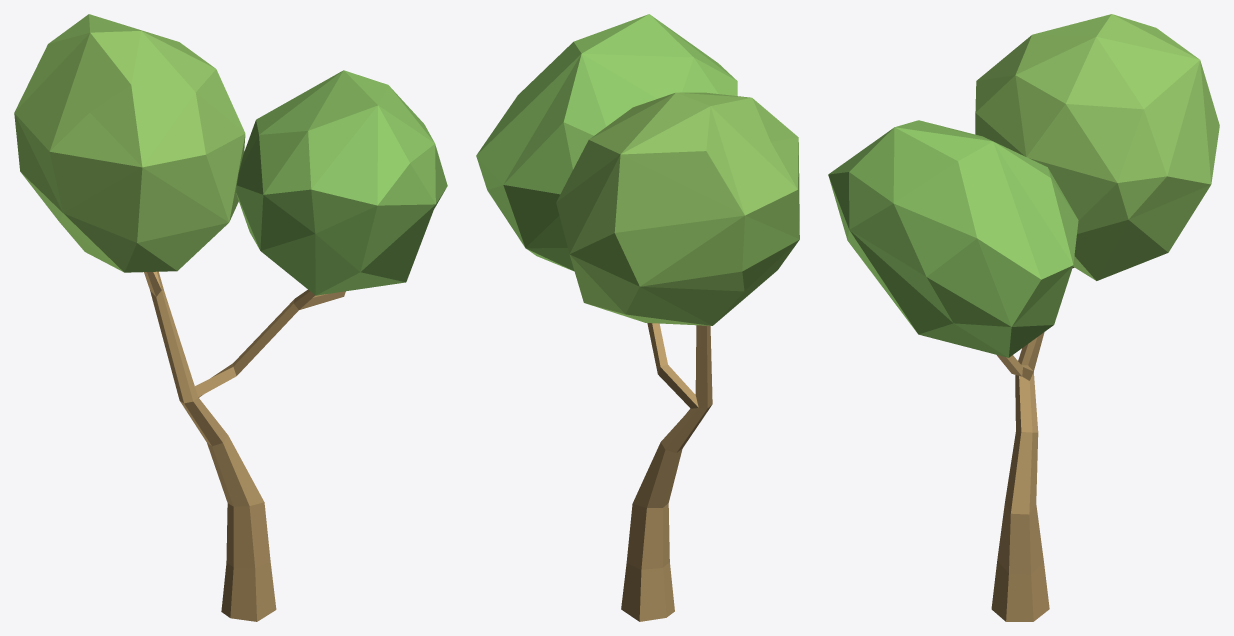
The model's file is Oak_Tree_m_06.fbx.
3 renders of one model, left to right at view 1: azimuth 30°, elevation 25°; view 2: azimuth 150°, elevation 25°; view 3: azimuth 270°, elevation 25°, orthographic. The views are drawn at different scales.
Parts seen in each view (by area): view 1: Oak_Tree_m_06; view 2: Oak_Tree_m_06; view 3: Oak_Tree_m_06.
Part boxes in pixels (bbox=[...]): Oak_Tree_m_06: bbox=[14, 14, 447, 621]; Oak_Tree_m_06: bbox=[476, 14, 799, 621]; Oak_Tree_m_06: bbox=[828, 14, 1219, 621].
Bounding box in the file's own units: 499 × 795 × 516.
